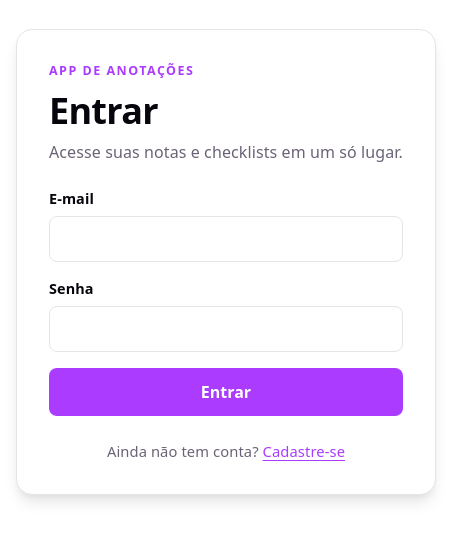
autenticação › login com senha curta exibe erro por campo sem enviar requisição
The width and height of the screenshot is (453, 534).
Type "usuario@exemplo.com" into the field labelled "E-mail" at (226, 239), box [49,216,403,262]
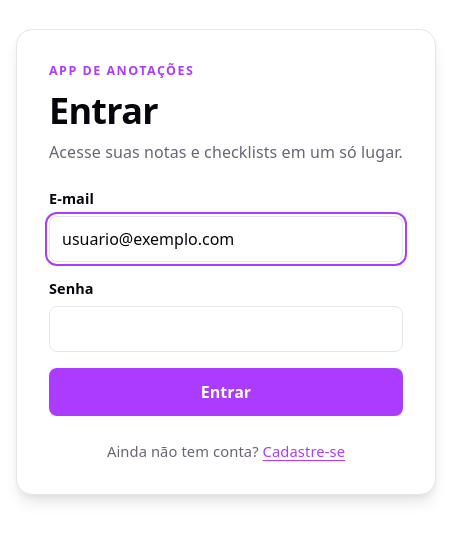
Type "123" into the password field labelled "Senha" at (226, 328), box [49,306,403,352]
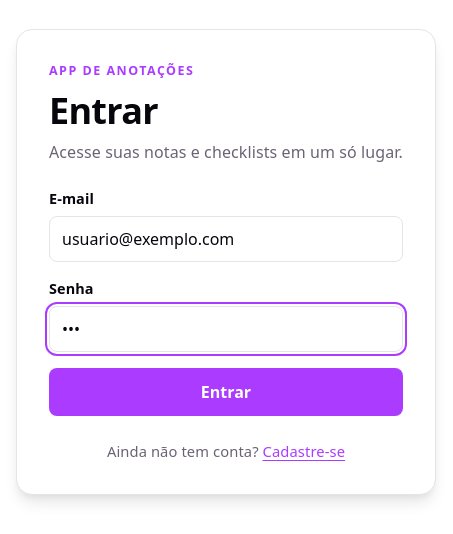
Click the button "Entrar" at (226, 392), box [49,368,403,416]
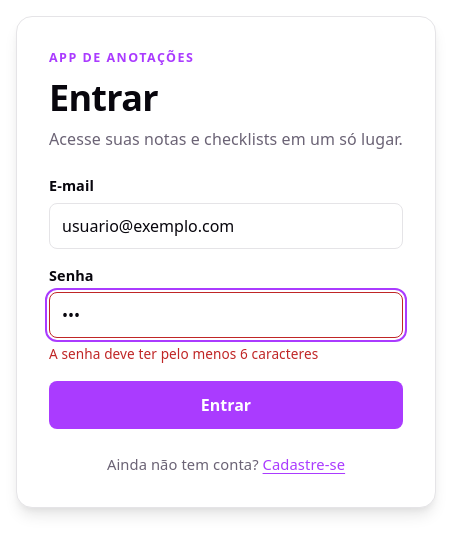
Result: the text "A senha deve ter pelo menos 6 caracteres" is shown at [49,344,318,363]
